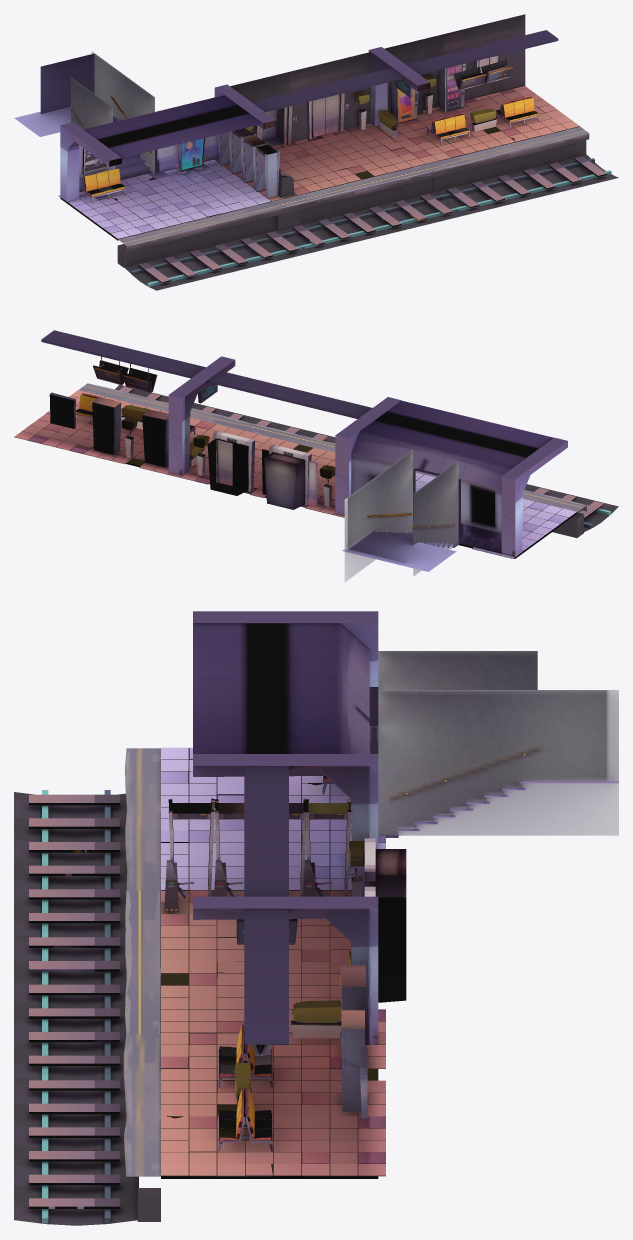
Rendered from station.glb.
3 views of the same model, one above another, from view 1: azimuth 30°, elevation 25°; view 2: azimuth 150°, elevation 25°; view 3: azimuth 270°, elevation 25° (orthographic). The views are drawn at different scales.
Visible parts, largest first — view 1: Cube.027; view 2: Cube.027; view 3: Cube.027.
Boxes of the visible parts, left/top/right/bottom form: Cube.027: left=14, top=14, right=618, bottom=290; Cube.027: left=14, top=330, right=618, bottom=582; Cube.027: left=14, top=611, right=618, bottom=1225.
Size of the model in its own units: 25.62 by 5.44 by 15.29.
Materials: 1 (1 with a texture image).
